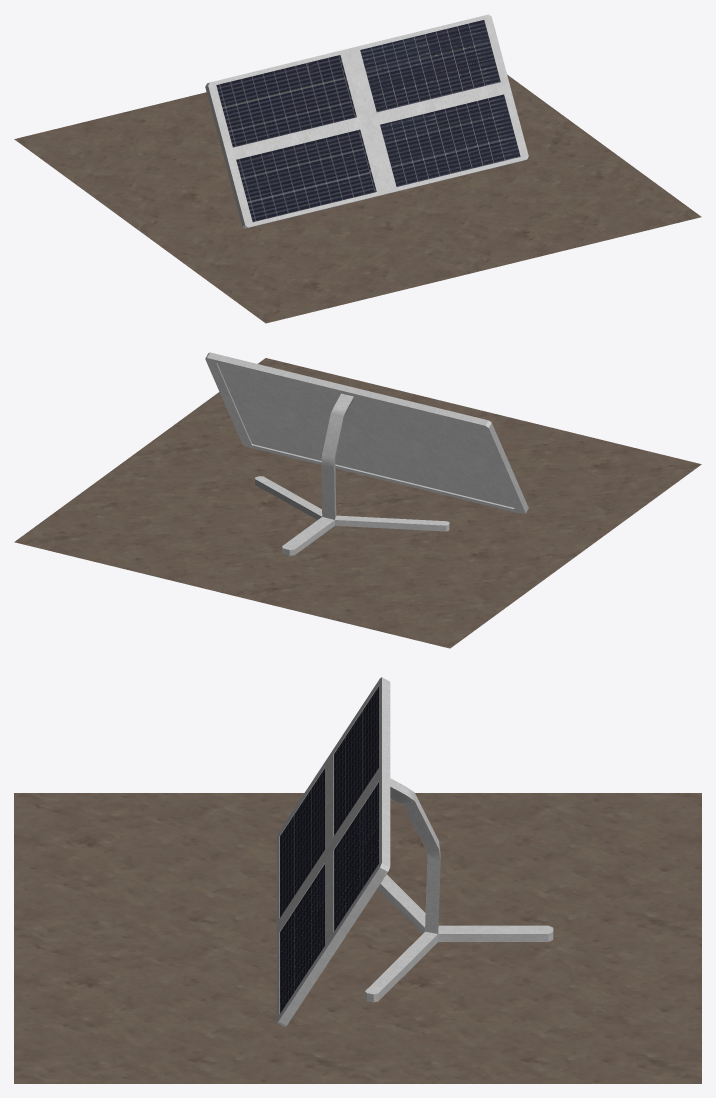
Rendered from Panel.glb.
3 renders of one model, top to bottom at view 1: azimuth 30°, elevation 25°; view 2: azimuth 150°, elevation 25°; view 3: azimuth 270°, elevation 25°, orthographic. The views are drawn at different scales.
Parts seen in each view (by area): view 1: Piso, Panel (×2); view 2: Piso, Panel; view 3: Piso, Panel (×2).
Part boxes in pixels (x1,y1,x2,y2): Piso: (14, 74, 701, 323); Panel (×2): (205, 14, 528, 228); Piso: (14, 358, 701, 648); Panel: (205, 352, 528, 555); Piso: (14, 793, 701, 1083); Panel (×2): (276, 677, 553, 1026).
Size of the model in its own units: 0.7383 by 0.1994 by 0.7383.
Materials: 3 (3 with a texture image).
